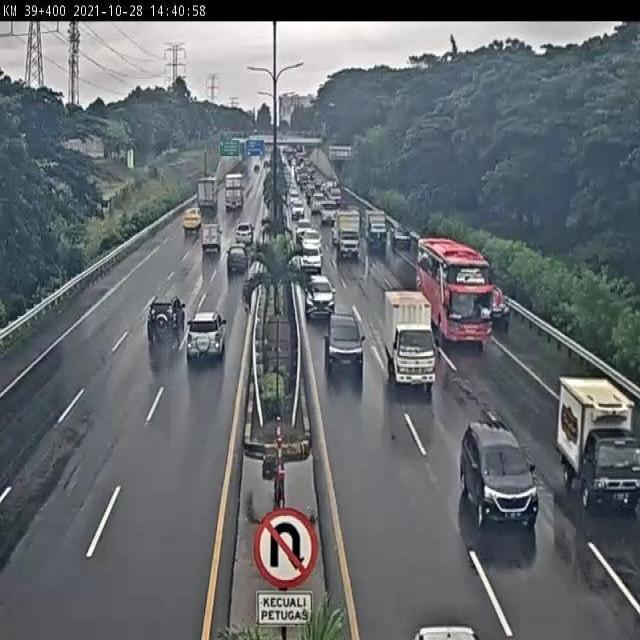car: (462, 412, 541, 528), (324, 311, 365, 371), (185, 311, 227, 363), (146, 293, 186, 343), (301, 271, 337, 317), (226, 241, 250, 276), (493, 288, 512, 331)
truck: (555, 381, 640, 508), (416, 235, 494, 343), (381, 292, 438, 392)
